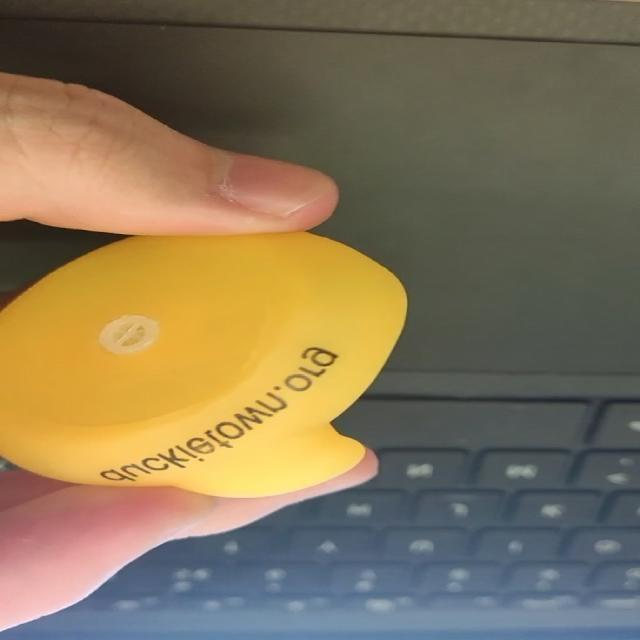rubber-duck: (0, 232, 405, 495)
